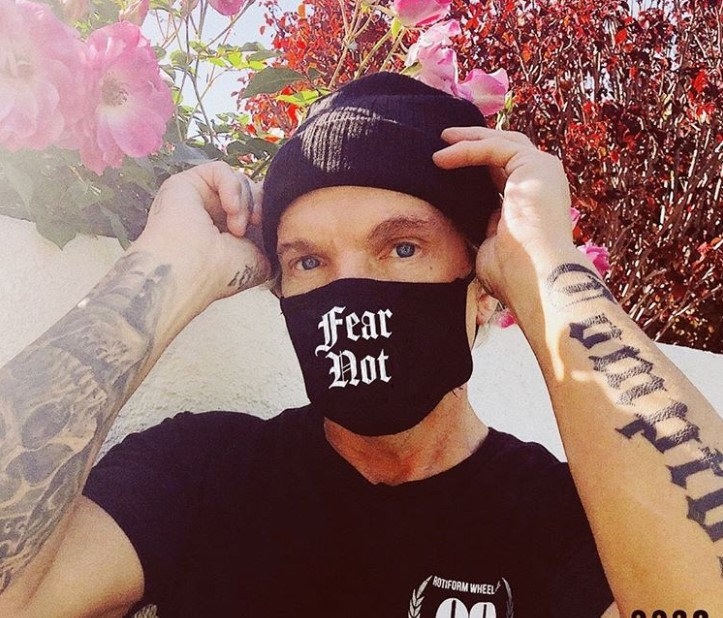face_with_mask: (258, 76, 502, 440)
